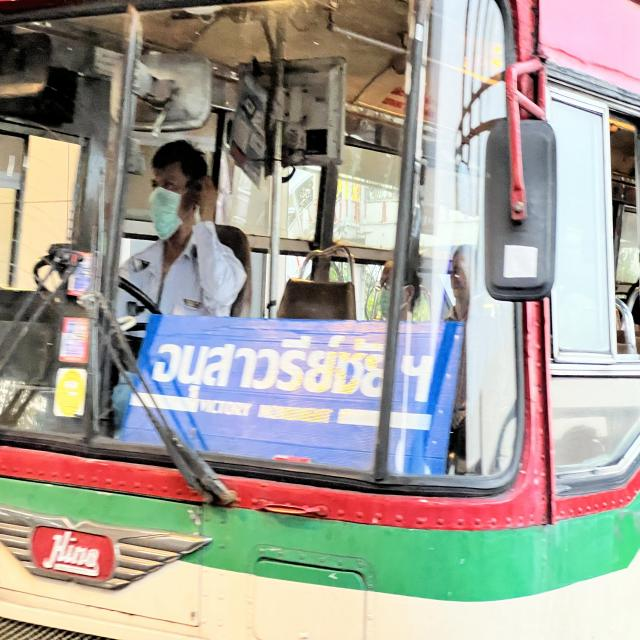Destination-Sign-Normal: (120, 318, 463, 472)
